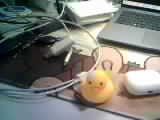duck: (71, 52, 123, 117)
